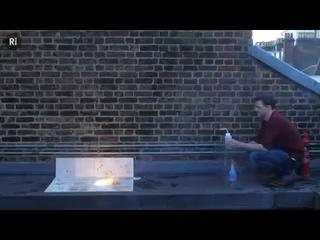Fire: (91, 178, 113, 188)
